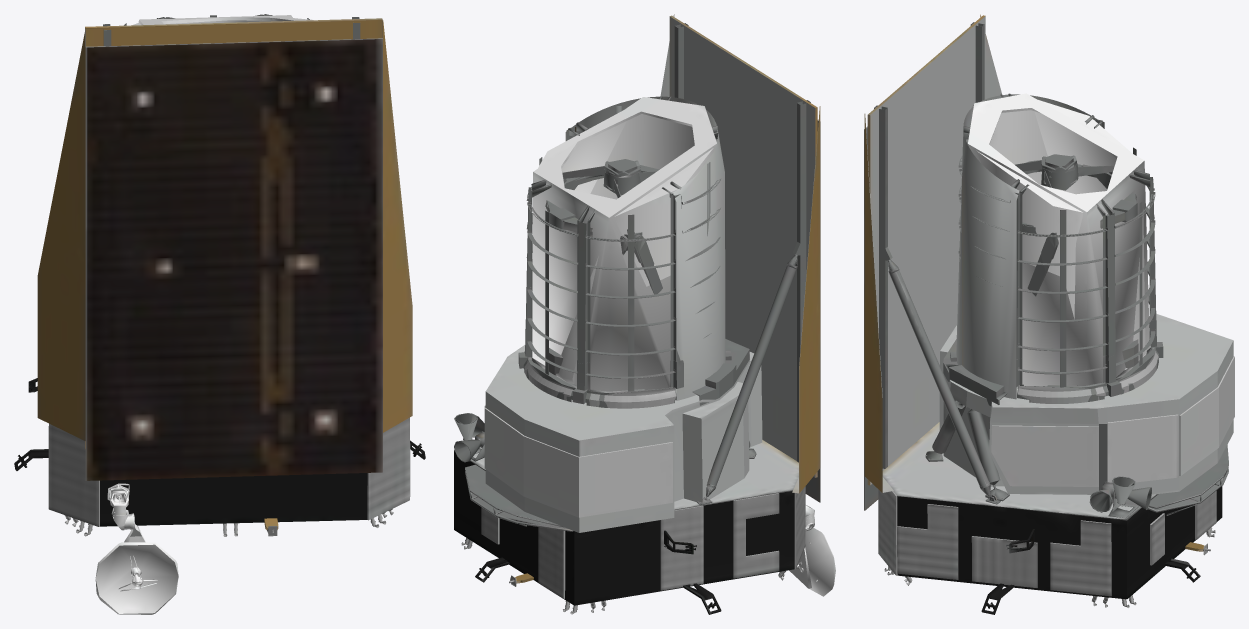
The model's file is euclid-low.glb.
The picture shows the model from 3 angles, left to right: view 1: azimuth 30°, elevation 25°; view 2: azimuth 150°, elevation 25°; view 3: azimuth 270°, elevation 25°; orthographic projection. The views are drawn at different scales.
Parts seen in each view (by area): view 1: Euclid; view 2: Euclid; view 3: Euclid.
Part boxes in pixels (box(x1,y1,x2,y2)): Euclid: box(14, 14, 425, 614); Euclid: box(454, 14, 835, 614); Euclid: box(864, 14, 1234, 614).
Bounding box in the file's own units: 343 × 527 × 349.
1 material, 1 textured.
